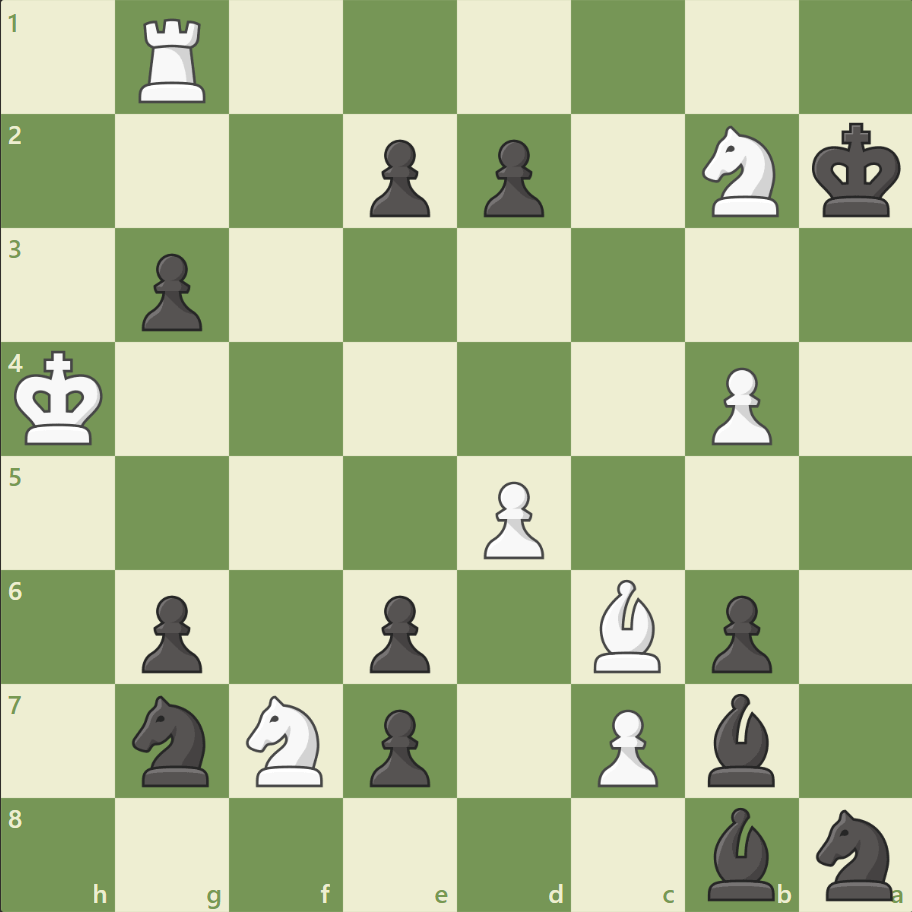B: (585, 574, 669, 676)
K: (11, 344, 111, 452)
N: (238, 688, 335, 791), (692, 121, 789, 223)
P: (474, 473, 549, 564), (701, 359, 776, 450), (588, 700, 662, 791)
R: (133, 12, 215, 109)
b: (698, 801, 782, 904), (698, 687, 782, 790)
k: (806, 117, 906, 225)
n: (124, 688, 222, 791), (806, 802, 903, 904)
p: (701, 586, 776, 677), (133, 586, 208, 677), (133, 246, 208, 337), (474, 132, 549, 223), (361, 700, 435, 791), (361, 586, 435, 677), (361, 132, 435, 223)
